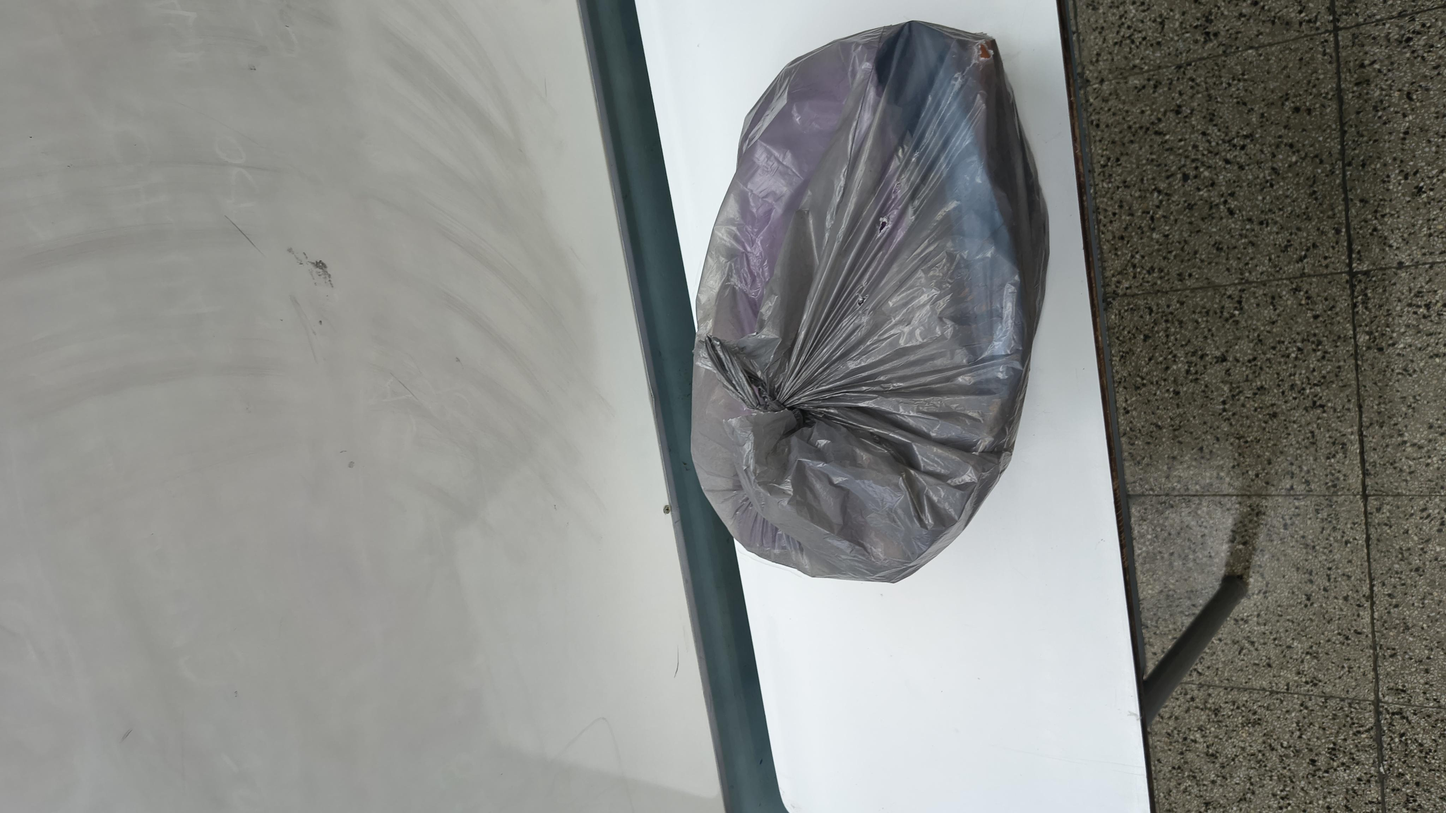Garbage: (314, 361, 1446, 605)
